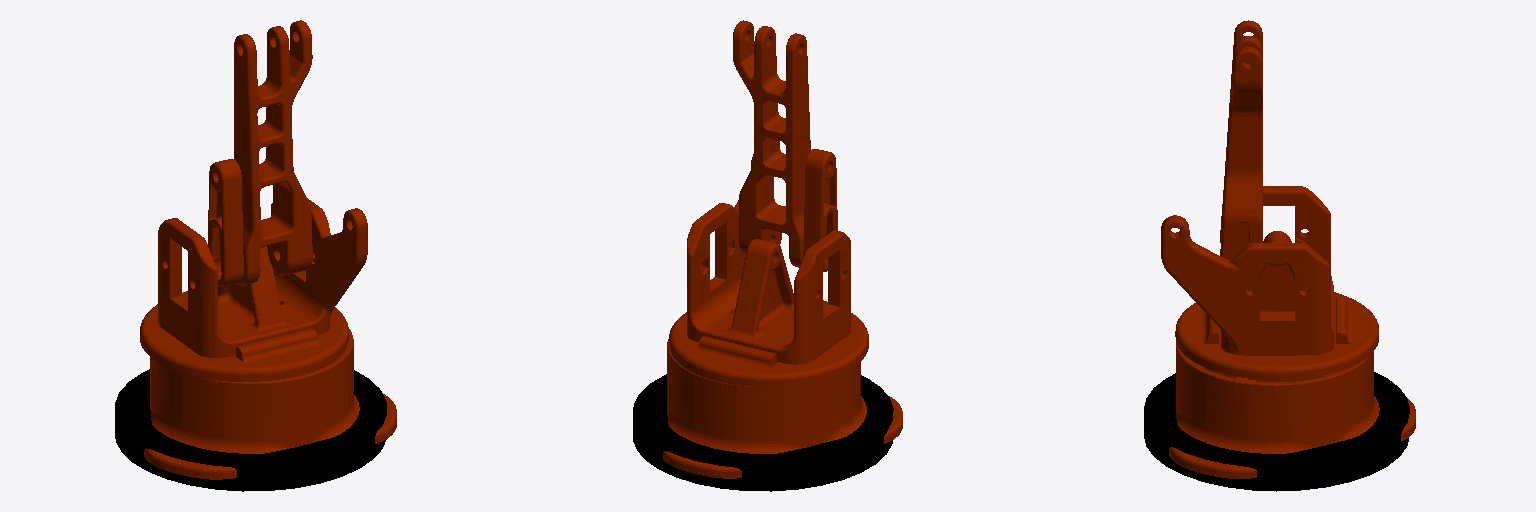
URDF robot description (visual):
<?xml version="1.0"?>
<robot name="visual">
    <link name="base_link">
        <visual>
            <geometry>
                <cylinder length="0.01" radius="0.047" />
            </geometry>
            <material name="black" />
            <origin rpy="0 0 0" xyz="0 0 0" />
        </visual>
    </link>
    <link name="arm_base_link">
        <visual>
            <geometry>
                <mesh filename="package://eezybotarm/meshes/eezybotarm_base.stl" scale="0.001 0.001 0.001" />
            </geometry>
            <material name="orange" />
            <origin rpy="0 0 3.1416" xyz="0 0.0055 0" />
        </visual>
    </link>
    <link name="arm_rotate_base_link">
        <visual>
            <geometry>
                <mesh filename="package://eezybotarm/meshes/eezybotarm_rotate_base.stl" scale="0.001 0.001 0.001" />
            </geometry>
            <material name="orange" />
            <origin rpy="0 0 0" xyz="0.0015 0.013 0" />
        </visual>
    </link>

    <link name="arm_forward_drive_link">
        <visual>
            <geometry>
                <mesh filename="package://eezybotarm/meshes/eezybotarm_forward_drive.stl" scale="0.001 0.001 0.001" />
            </geometry>
            <material name="orange" />
            <origin rpy="0 0 0" xyz="0 0 0" />
        </visual>
    </link>

    <link name="arm_vertical_drive_link">
        <visual>
            <geometry>
                <mesh filename="package://eezybotarm/meshes/eezybotarm_vertical_drive.stl" scale="0.001 0.001 0.001" />
            </geometry>
            <material name="orange" />
            <origin rpy="0 0 0" xyz="0 0 0" />
        </visual>
    </link>

    <joint name="base_joint" type="fixed">
        <axis xyz="0 0 -1" />
        <limit effort="1000.0" lower="0.0" upper="3.1416" velocity="1.0" />
        <origin rpy="0 0 0" xyz="0 0 0" />
        <parent link="base_link" />
        <child link="arm_base_link" />
    </joint>

    <joint name="rotate_base_joint" type="revolute">
        <axis xyz="0 0 1" />
        <limit effort="1000.0" lower="0.0" upper="3.1416" velocity="1.0" />
        <origin rpy="0 0 0" xyz="0.000 0 0.032" />
        <parent link="arm_base_link" />
        <child link="arm_rotate_base_link" />
    </joint>

    <joint name="forward_drive_joint" type="revolute">
        <axis xyz="1 0 0" />
        <limit effort="1000.0" lower="0" upper="3.1416" velocity="1.0" />
        <origin rpy="-1.5708 -1.5708 3.14159" xyz="0.0015 -0.005 0.074" />
        <parent link="arm_rotate_base_link" />
        <child link="arm_forward_drive_link" />
    </joint>

    <joint name="vertical_drive_joint" type="revolute">
        <axis xyz="1 0 0" />
        <limit effort="1000.0" lower="0" upper="3.1416" velocity="1.0" />
        <origin rpy="1.5708 1.5708 -1.5708" xyz="-0.0135 -0.012 0.052" />
        <parent link="arm_rotate_base_link" />
        <child link="arm_vertical_drive_link" />
    </joint>

    <material name="orange">
        <color rgba="0.57 0.17 0.0 1" />
    </material>
    <material name="white">
        <color rgba="0.8 0.8 0.8 1.0" />
    </material>
    <material name="black">
        <color rgba="0 0 0 0.50" />
    </material>
</robot>

--- What the picture shows (computed from the rendered views, not written in the file) ---
The picture shows the robot from 3 angles, left to right: view 1: azimuth 30°, elevation 25°; view 2: azimuth 150°, elevation 25°; view 3: azimuth 270°, elevation 25°; orthographic projection.
Robot: visual — 5 links, 4 joints (3 revolute, 1 fixed); root link base_link; default pose: every joint at zero.
Visible links, largest first — view 1: arm_rotate_base_link, arm_base_link, arm_forward_drive_link, base_link, arm_vertical_drive_link; view 2: arm_rotate_base_link, arm_base_link, arm_forward_drive_link, base_link, arm_vertical_drive_link; view 3: arm_rotate_base_link, arm_base_link, base_link, arm_forward_drive_link.
Link boxes in pixels (x1,y1,x2,y2): arm_rotate_base_link: [140, 199, 367, 381]; arm_base_link: [144, 329, 396, 479]; arm_forward_drive_link: [234, 20, 312, 285]; base_link: [115, 369, 386, 491]; arm_vertical_drive_link: [208, 159, 243, 286]; arm_rotate_base_link: [669, 154, 868, 386]; arm_base_link: [663, 339, 902, 478]; arm_forward_drive_link: [733, 20, 810, 267]; base_link: [633, 374, 893, 491]; arm_vertical_drive_link: [803, 149, 837, 271]; arm_rotate_base_link: [1161, 186, 1378, 379]; arm_base_link: [1169, 343, 1415, 478]; base_link: [1144, 372, 1409, 491]; arm_forward_drive_link: [1220, 20, 1262, 272].
Size in the robot's own frame: 0.0947 by 0.0962 by 0.1572 metres.
Meshes: 4 distinct files referenced, 4 mesh visuals loaded (4 binary STL).